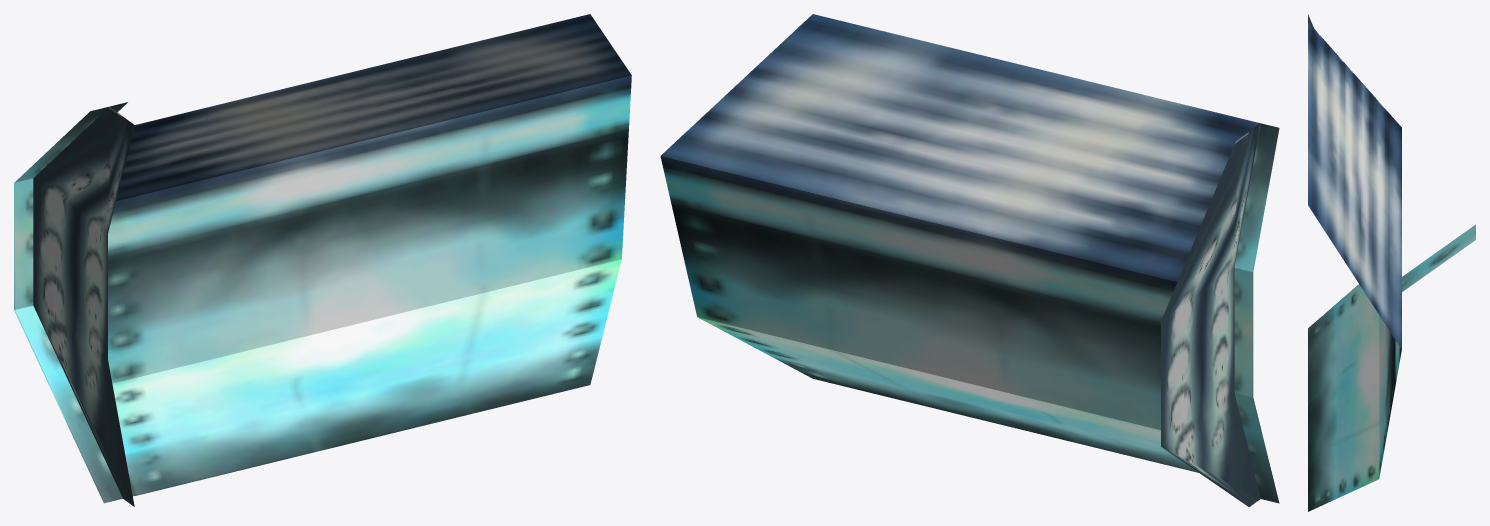
Rendered from W_A_Gang_Schräg_R_Lang_Ministerium_2488.glb.
3 views of the same model, side by side, from view 1: azimuth 30°, elevation 25°; view 2: azimuth 150°, elevation 25°; view 3: azimuth 270°, elevation 25° (orthographic). The views are drawn at different scales.
Parts seen in each view (by area): view 1: pPlaneShape147, pPlaneShape148, pPlaneShape150; view 2: pPlaneShape147, pPlaneShape148, pPlaneShape149; view 3: pPlaneShape147, pPlaneShape150.
Part boxes in pixels (x1=…): pPlaneShape147: x1=108, y1=14, x2=631, y2=495; pPlaneShape148: x1=33, y1=107, x2=134, y2=506; pPlaneShape150: x1=14, y1=102, x2=134, y2=503; pPlaneShape147: x1=660, y1=14, x2=1260, y2=472; pPlaneShape148: x1=1161, y1=123, x2=1260, y2=507; pPlaneShape149: x1=1234, y1=123, x2=1279, y2=503; pPlaneShape147: x1=1308, y1=22, x2=1401, y2=511; pPlaneShape150: x1=1402, y1=224, x2=1475, y2=291.
Bounding box in the file's own units: 0.6289 × 0.4008 × 0.193.
4 materials, 4 textured.
